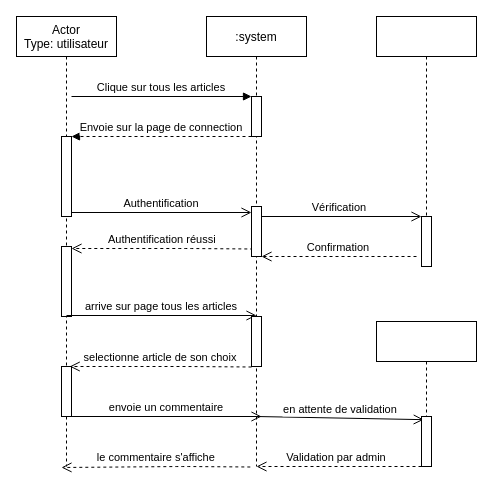
Image size: 493x488. Some labels were removed from this diagram. The box of each missing label's shape, as (x1, y1, x2, y2) in pixels:
:comment: (376, 320, 476, 466)
:users: (376, 16, 476, 266)
